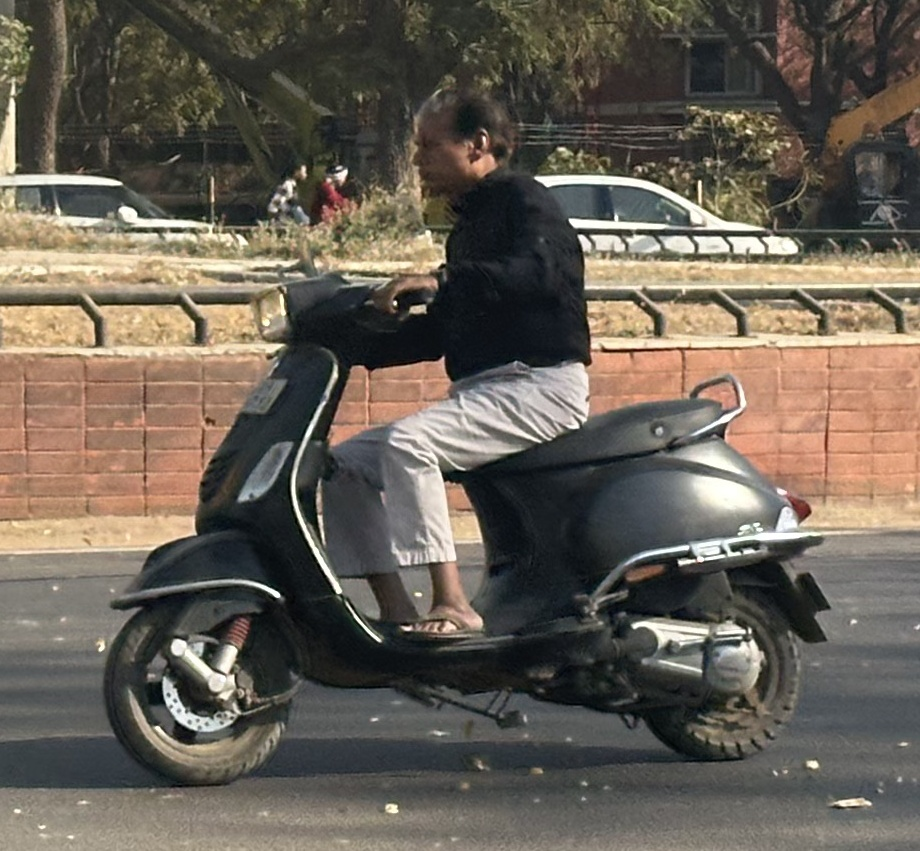BikeWithRider: (82, 71, 845, 796)
NoHelmet: (401, 79, 531, 207)
